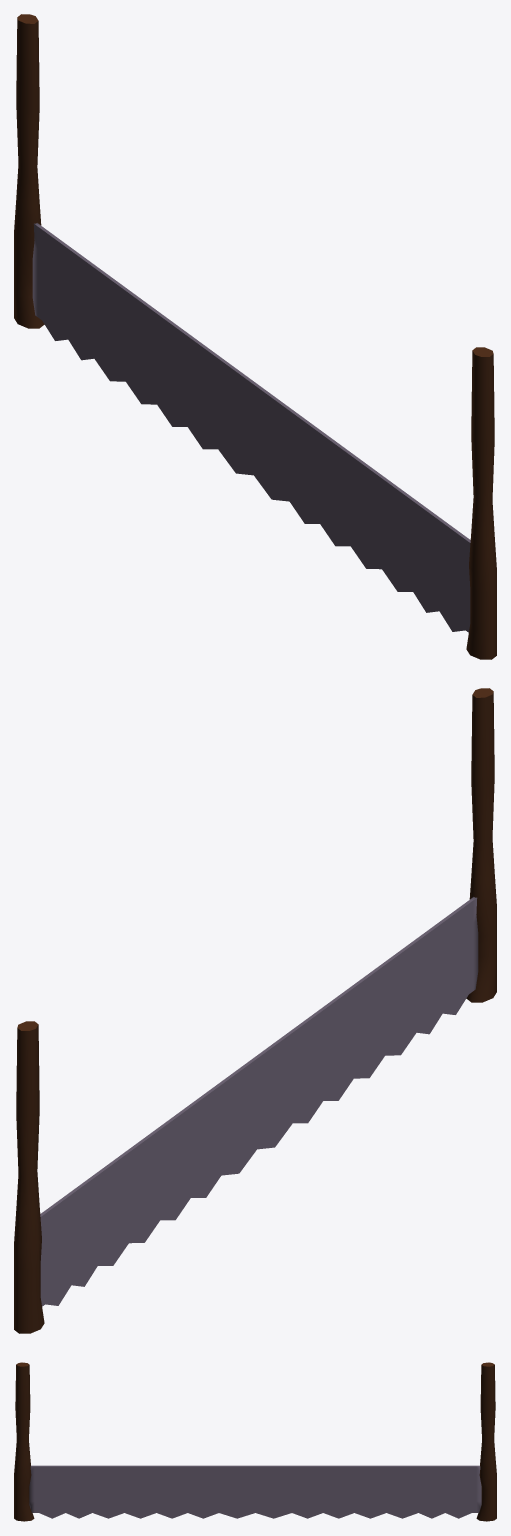
File: VillagerSaw02.fbx
3 views of the same model, one above another, from view 1: azimuth 30°, elevation 25°; view 2: azimuth 150°, elevation 25°; view 3: azimuth 270°, elevation 25° (orthographic). The views are drawn at different scales.
Visible parts, largest first — view 1: VillagerSaw02; view 2: VillagerSaw02; view 3: VillagerSaw02.
Part boxes in pixels (bbox=[...]): VillagerSaw02: bbox=[14, 14, 496, 659]; VillagerSaw02: bbox=[14, 688, 496, 1333]; VillagerSaw02: bbox=[14, 1362, 496, 1521].
Size of the model in its own units: 4.43 by 55.32 by 157.
